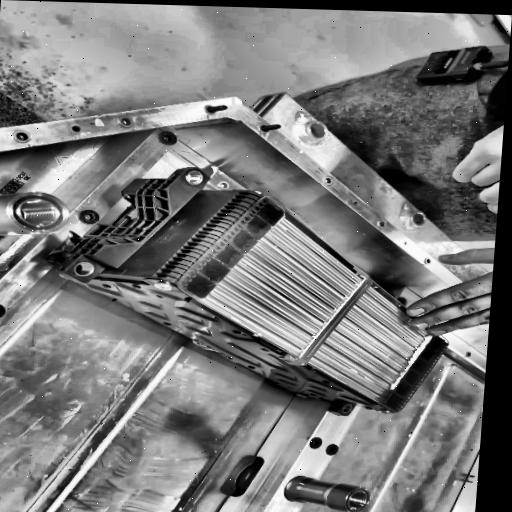battery_module: (158, 189, 450, 414)
